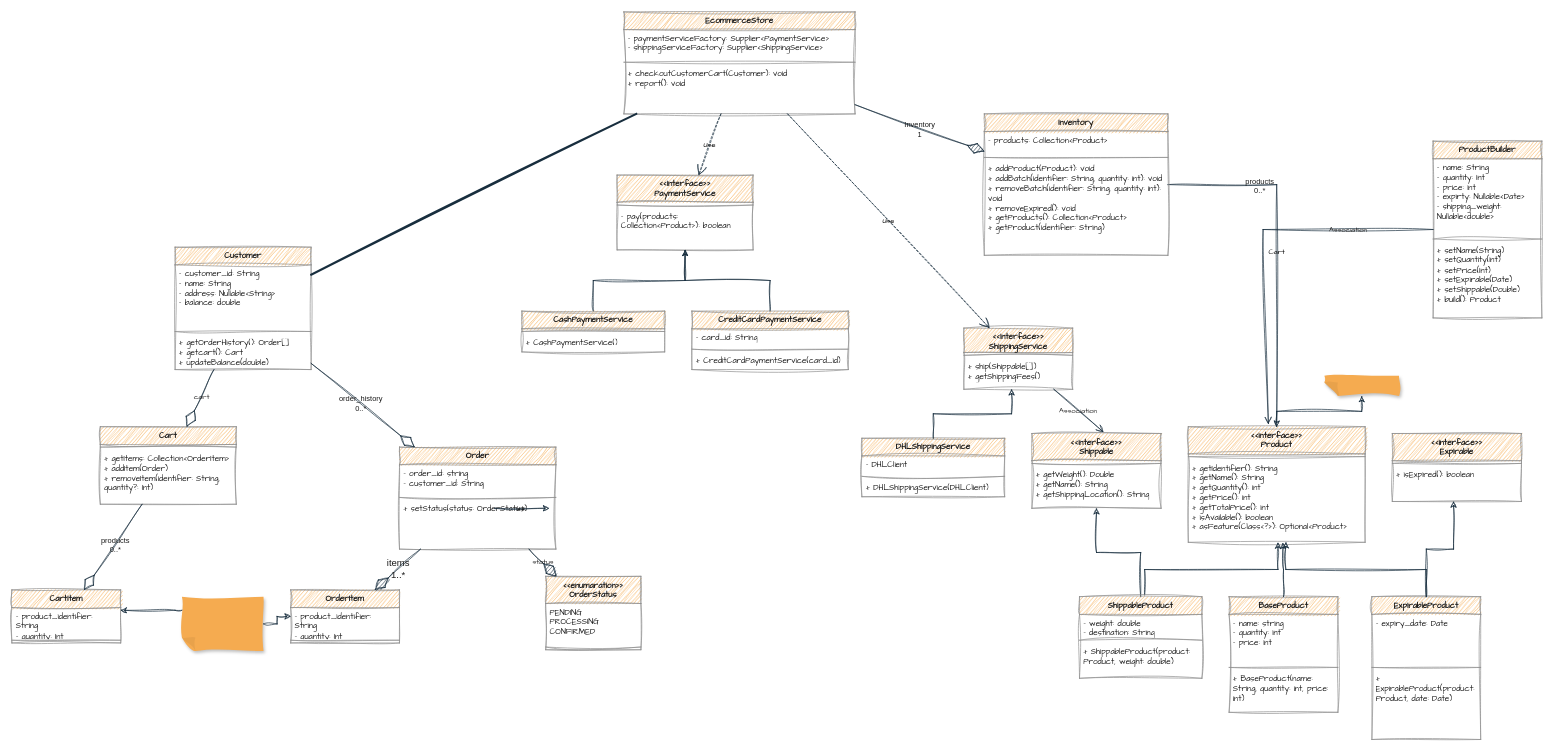
This 1554x753 diagram has some shape labels left out. The centre of each missing label's shape, as x and y in pixels:
"Decorator Pattern" goes at (1362,387).
"This is best being an immutable record, not a class" goes at (223,625).
